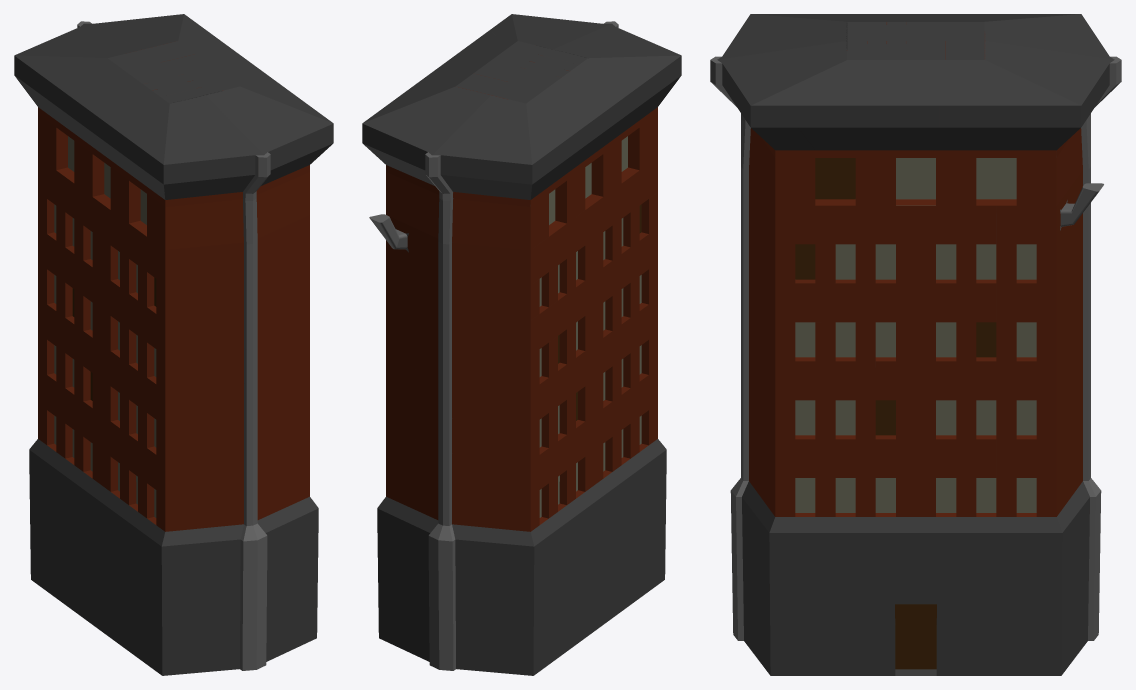
File: buldibg.fbx
3 views of the same model, side by side, from view 1: azimuth 30°, elevation 25°; view 2: azimuth 150°, elevation 25°; view 3: azimuth 270°, elevation 25° (orthographic). The views are drawn at different scales.
Visible parts, largest first — view 1: Cube; view 2: Cube; view 3: Cube.
Part boxes in pixels (x1=…): Cube: x1=14, y1=14, x2=333, y2=675; Cube: x1=362, y1=14, x2=681, y2=675; Cube: x1=710, y1=14, x2=1121, y2=675.
Bounding box in the file's own units: 798 × 2407 × 1511.
